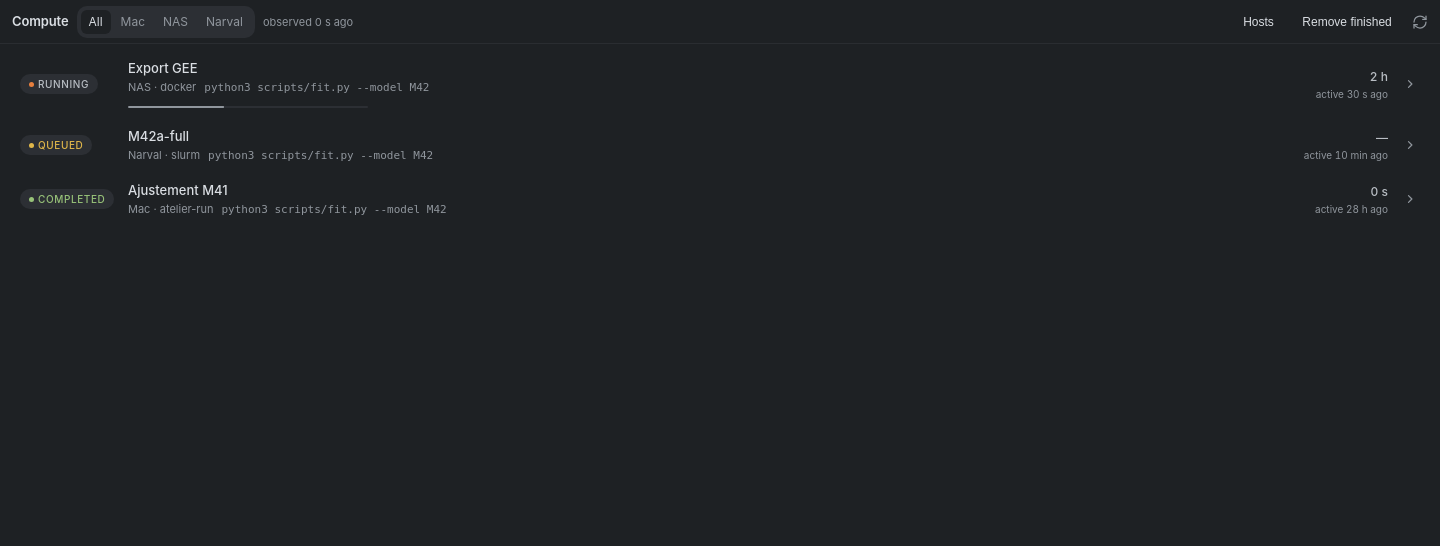
Scenario: CalculsSurface › une seule rangée ouverte à la fois ; un second clic la replie
The width and height of the screenshot is (1440, 546).
Click the button with class "calculs-run-head" that starts with "running" at (59, 84), box [8,52,1432,116]
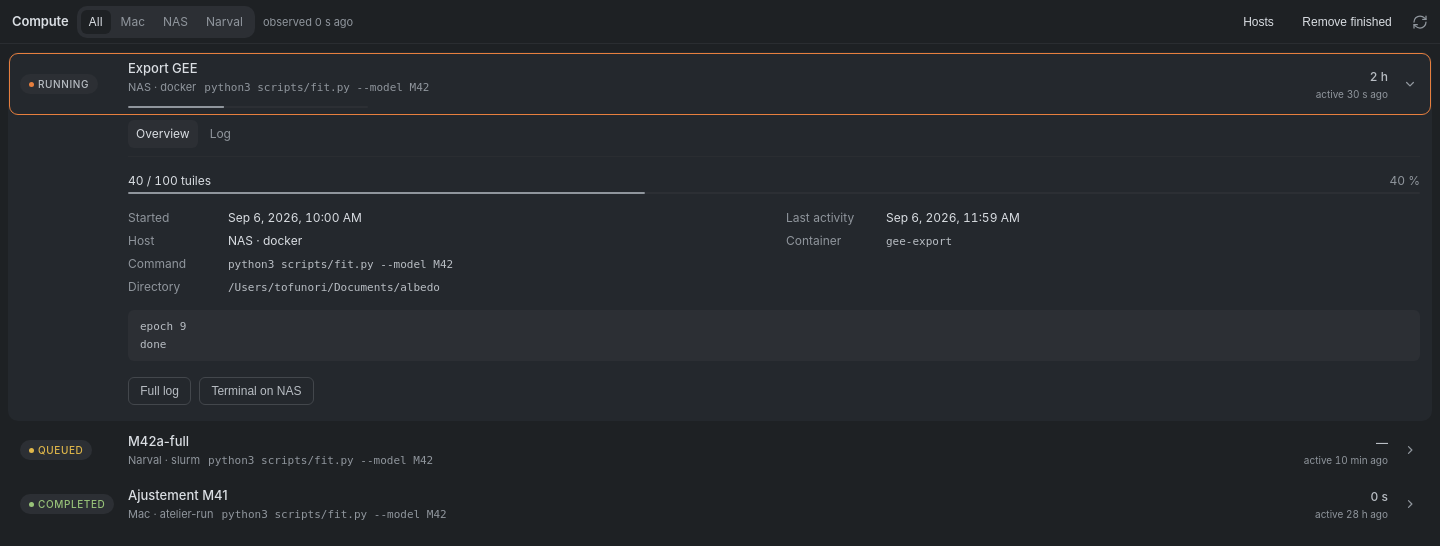
expect the number of elements with class "calculs-run-body" is 1: met, box [8,116,1432,421]
Click the button with class "calculs-run-head" that starts with "completed" at (67, 504), box [8,479,1432,529]
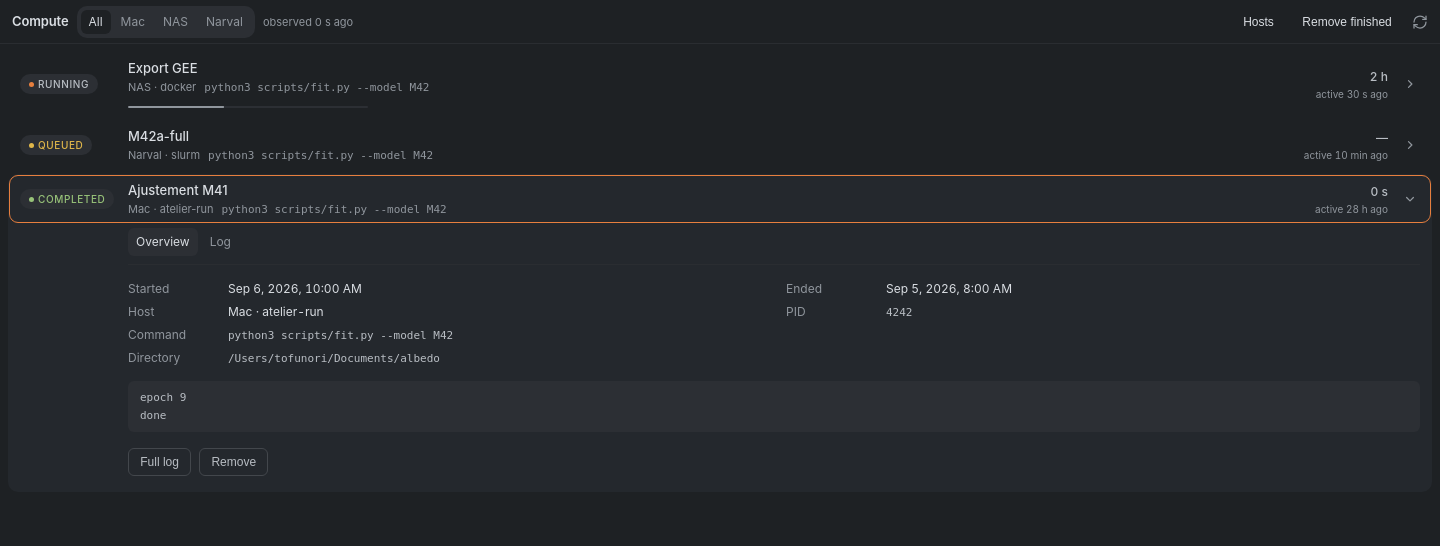
expect the number of elements with class "calculs-run-body" is 1: met, box [8,224,1432,492]
expect the button with class "calculs-run-head" is collapsed: met, box [8,52,1432,116]
expect the button with class "calculs-run-head" is expanded: met
Click the button with class "calculs-run-head" that starts with "completed" at (67, 199), box [8,174,1432,224]
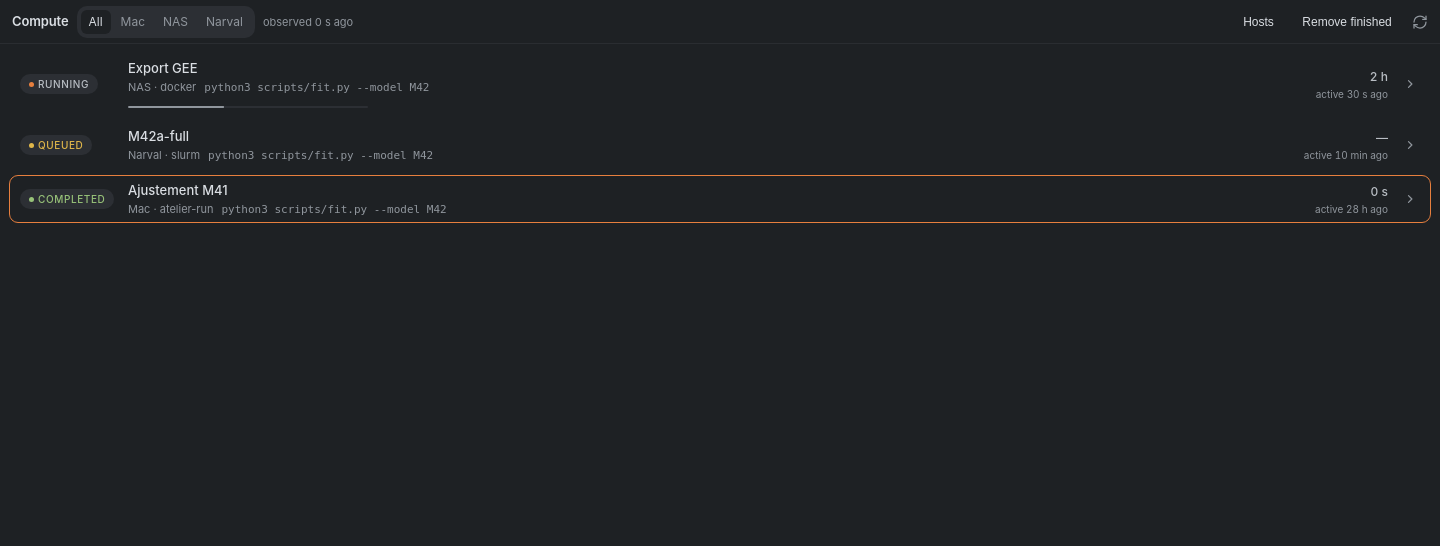
expect no elements with class "calculs-run-body" are shown: met
